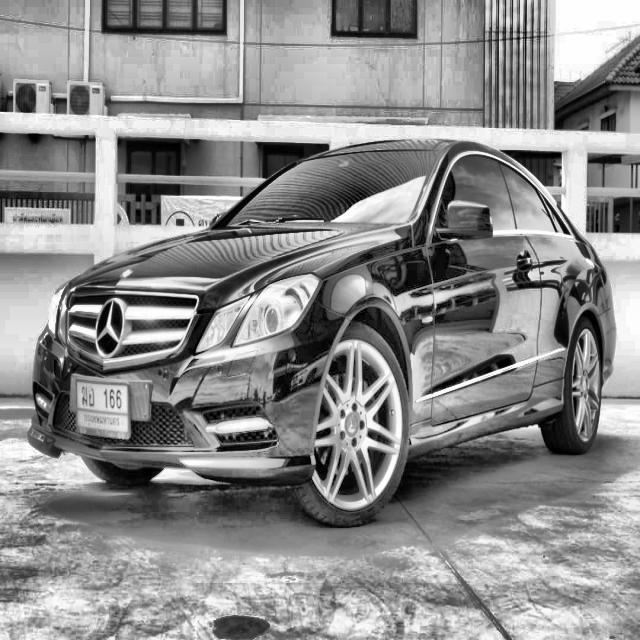license-plate: (75, 376, 132, 445)
